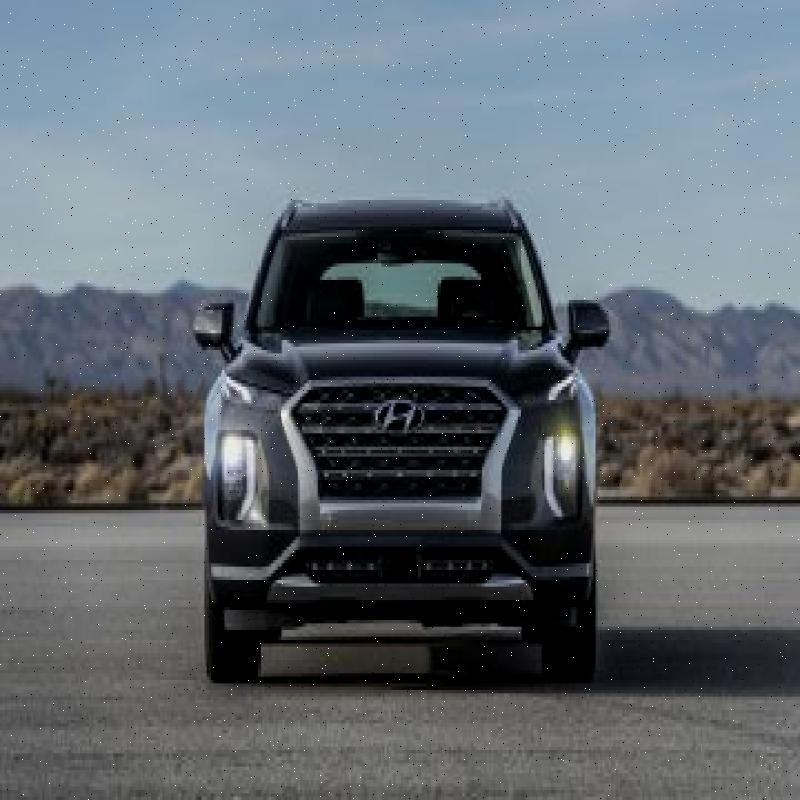car: (185, 165, 608, 690)
